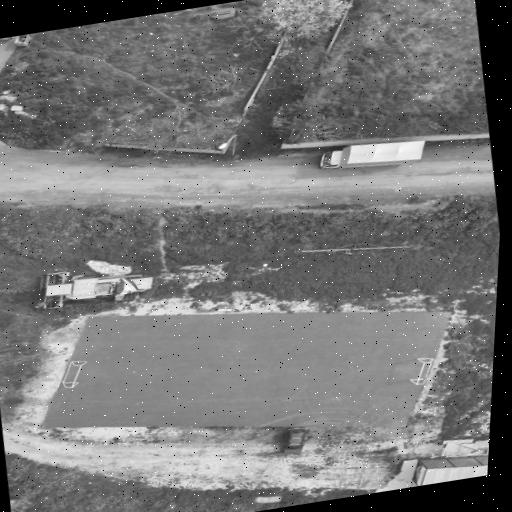car: (282, 427, 306, 454), (0, 37, 11, 39)
harvester: (36, 271, 152, 308)
truck: (319, 140, 424, 168)
